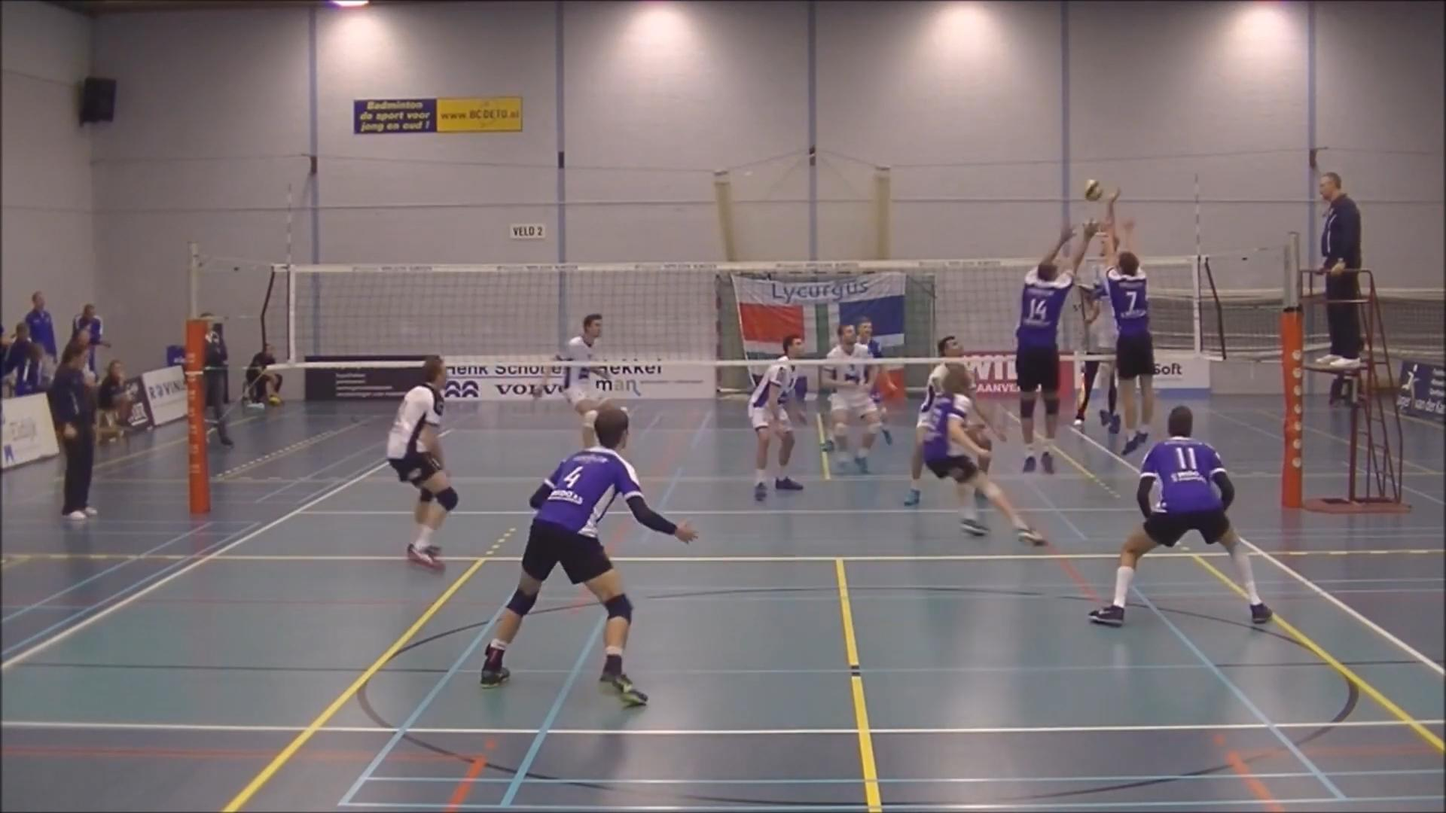attacco: (1076, 176, 1134, 443)
muro: (987, 215, 1088, 476), (1083, 213, 1173, 460)
